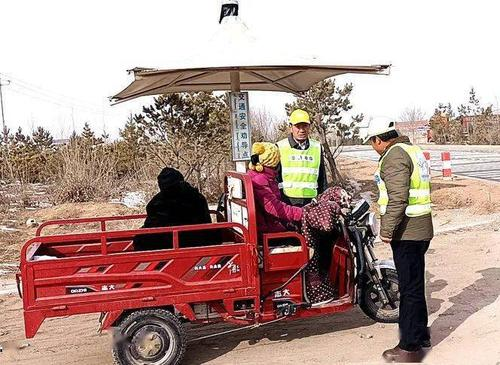driver: (229, 136, 362, 256)
overloading: (11, 145, 392, 348)
passenger: (117, 163, 242, 270)
